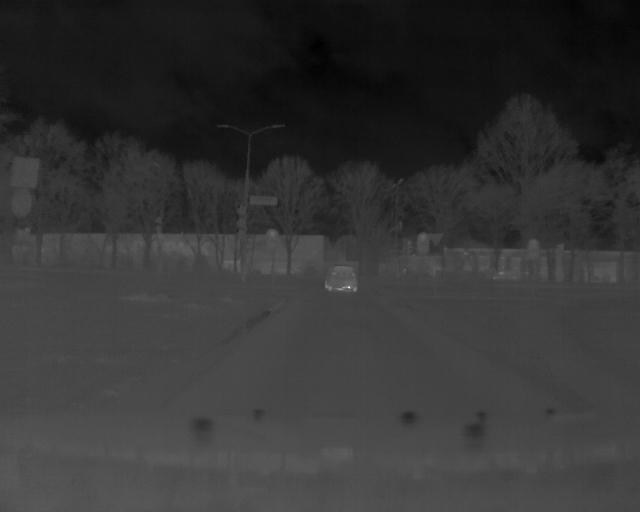car: (325, 263, 358, 297)
